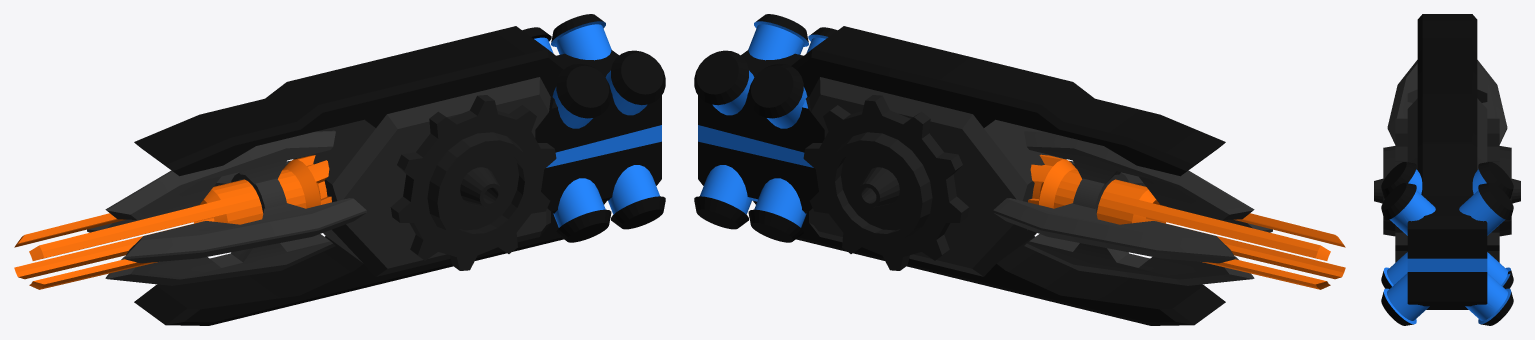
Rendered from ChargeLazer.fbx.
3 views of the same model, side by side, from view 1: azimuth 30°, elevation 25°; view 2: azimuth 150°, elevation 25°; view 3: azimuth 270°, elevation 25° (orthographic). The views are drawn at different scales.
Visible parts, largest first — view 1: Line004, Line010, Tube001, jok, Line001, Cone001, Line013; view 2: Line004, Line010, Tube001, jok001, Line001, Cone001, Line013; view 3: Line004, Line010, Tube001, jok, jok001, Line001, Line013.
Boxes of the visible parts, x1,y1,x2,y2 form: Line004: (522, 14, 665, 242); Line010: (134, 26, 568, 176); Tube001: (87, 130, 366, 285); jok: (390, 95, 556, 270); Line001: (293, 77, 550, 276); Cone001: (14, 155, 331, 289); Line013: (134, 201, 606, 325); Line004: (694, 14, 837, 242); Line010: (791, 26, 1225, 176); Tube001: (993, 130, 1272, 285); jok001: (803, 95, 969, 270); Line001: (809, 77, 1066, 276); Cone001: (1028, 154, 1345, 289); Line013: (753, 201, 1225, 325); Line004: (1381, 162, 1513, 325); Line010: (1417, 14, 1477, 196); Tube001: (1387, 60, 1507, 144); jok: (1374, 118, 1407, 262); jok001: (1487, 118, 1520, 262); Line001: (1407, 98, 1487, 169); Line013: (1426, 306, 1468, 309).
Size of the model in its own units: 562 by 170 by 147.
